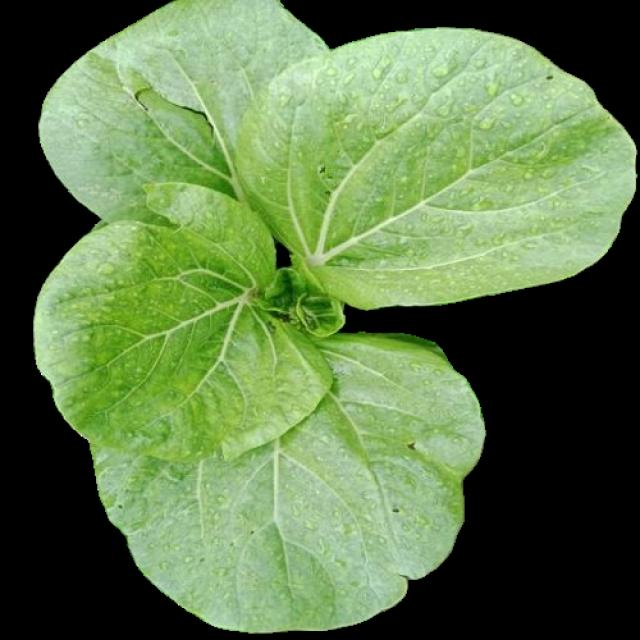mature: (33, 1, 634, 636)
unhealthy: (92, 336, 481, 628), (237, 29, 632, 301), (40, 1, 292, 209)
